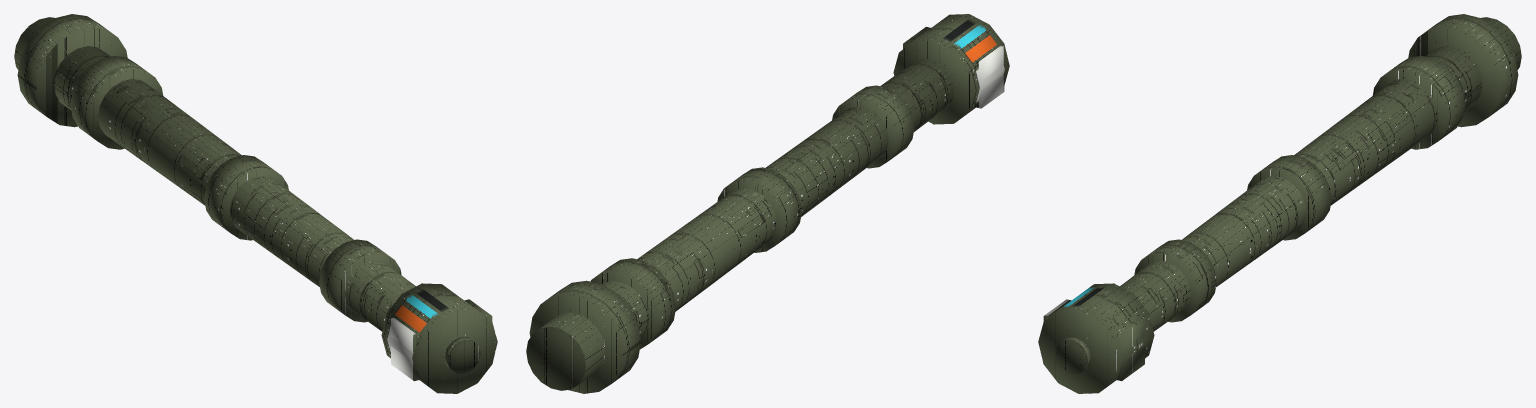
Rendered from medium_tank_barrel.obj.
3 renders of one model, left to right at view 1: azimuth 30°, elevation 25°; view 2: azimuth 150°, elevation 25°; view 3: azimuth 330°, elevation 25°, orthographic.
Parts seen in each view (by area): view 1: BarrelMesh; view 2: BarrelMesh; view 3: BarrelMesh.
Boxes of the visible parts, x1=… form: BarrelMesh: x1=14, y1=14, x2=497, y2=393; BarrelMesh: x1=526, y1=14, x2=1009, y2=393; BarrelMesh: x1=1038, y1=14, x2=1521, y2=393.
Bounding box in the file's own units: 0.5115 × 0.5037 × 4.02.
